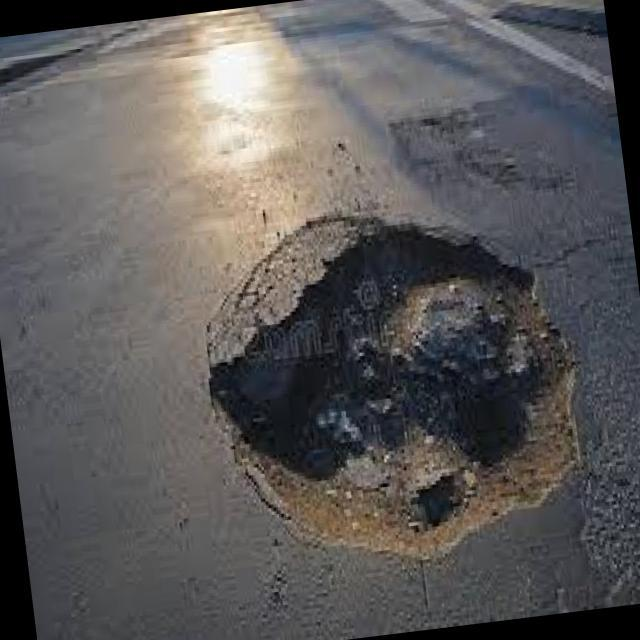Pothole: (200, 215, 587, 560)
